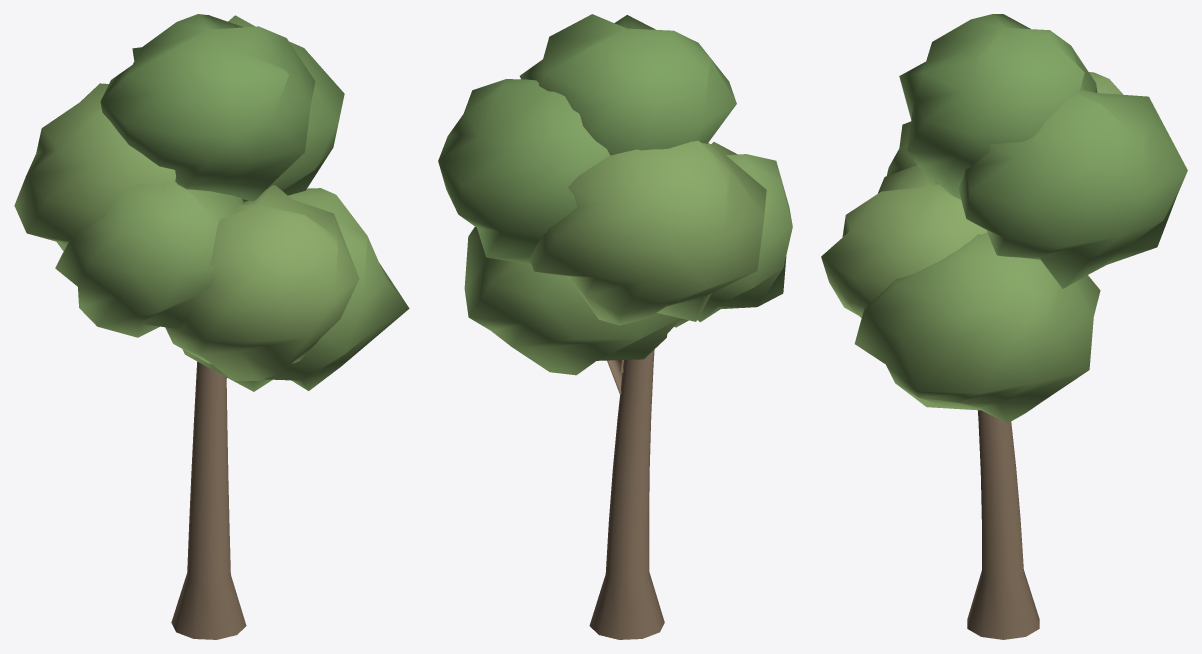
The model's file is elm_tree.glb.
3 renders of one model, left to right at view 1: azimuth 30°, elevation 25°; view 2: azimuth 150°, elevation 25°; view 3: azimuth 270°, elevation 25°, orthographic.
Visible parts, largest first — view 1: tree_elm2; view 2: tree_elm2; view 3: tree_elm2.
Part boxes in pixels (x1,y1,x2,y2): tree_elm2: [14, 14, 409, 639]; tree_elm2: [438, 14, 792, 639]; tree_elm2: [821, 14, 1187, 639].
Bounding box in the file's own units: 5.48 × 9.71 × 5.42.
